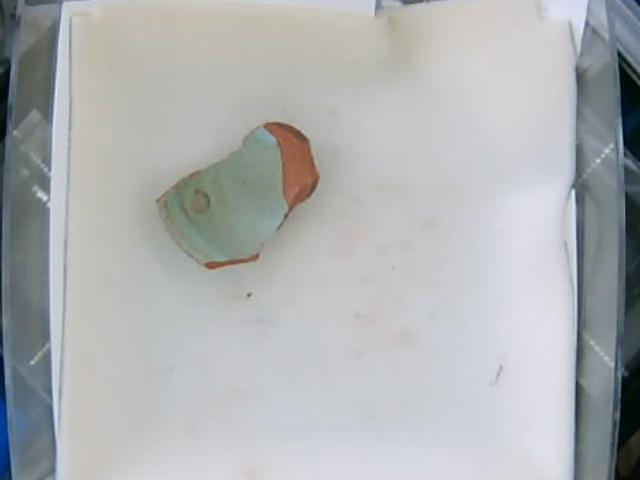China: (156, 121, 319, 269)
